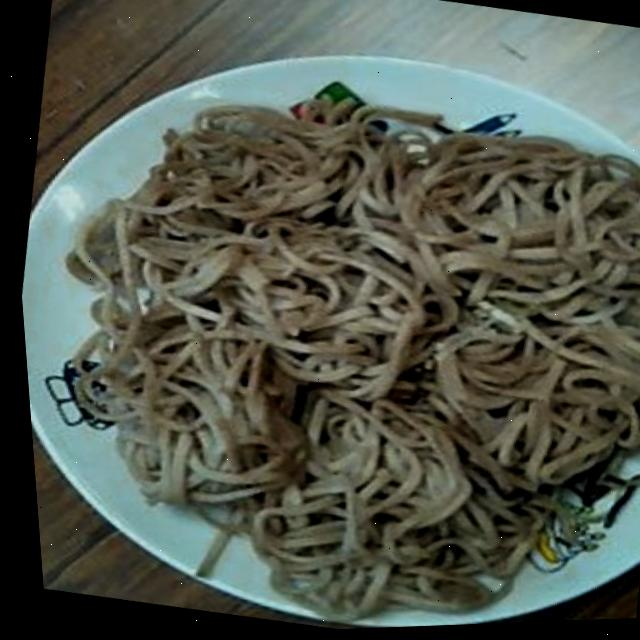面条主食: (4, 49, 640, 627)
